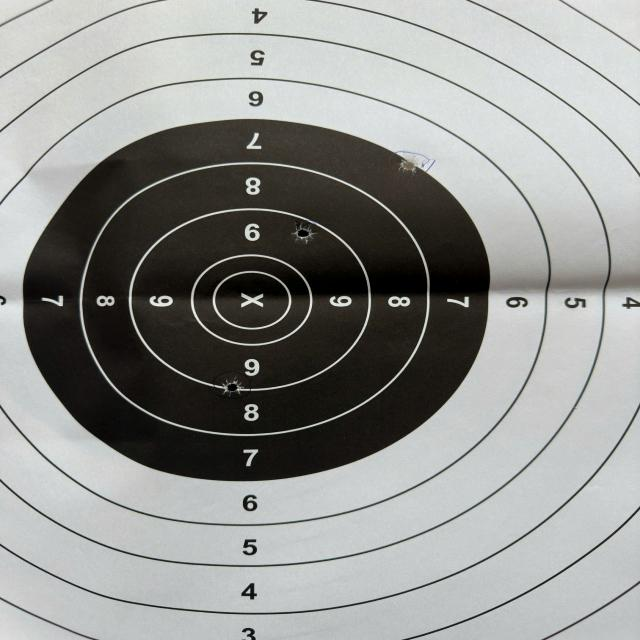bullet: (399, 158, 421, 173), (226, 382, 237, 392), (298, 229, 310, 237)
target: (0, 0, 640, 640)
